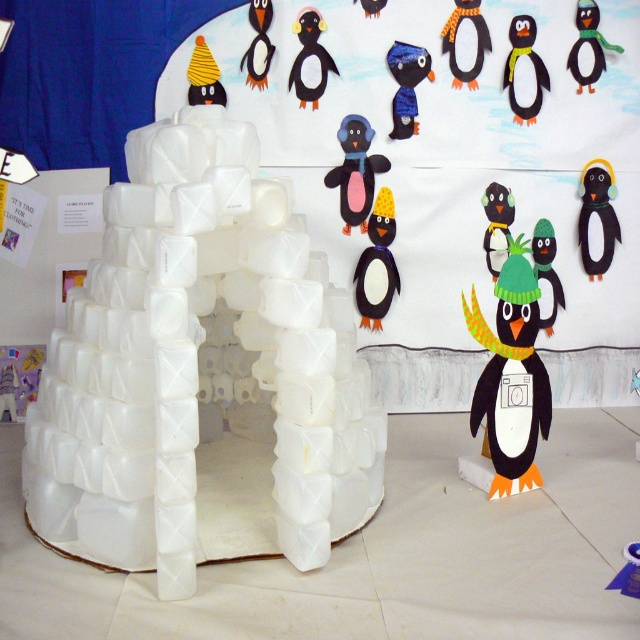Penguin: (471, 252, 552, 500), (321, 113, 391, 238), (350, 189, 401, 331), (285, 6, 342, 116), (523, 216, 570, 346), (499, 14, 552, 126), (573, 160, 622, 280), (384, 36, 439, 142), (566, 0, 622, 97), (439, 0, 494, 93), (482, 179, 520, 291), (242, 0, 275, 97), (191, 75, 222, 110)
